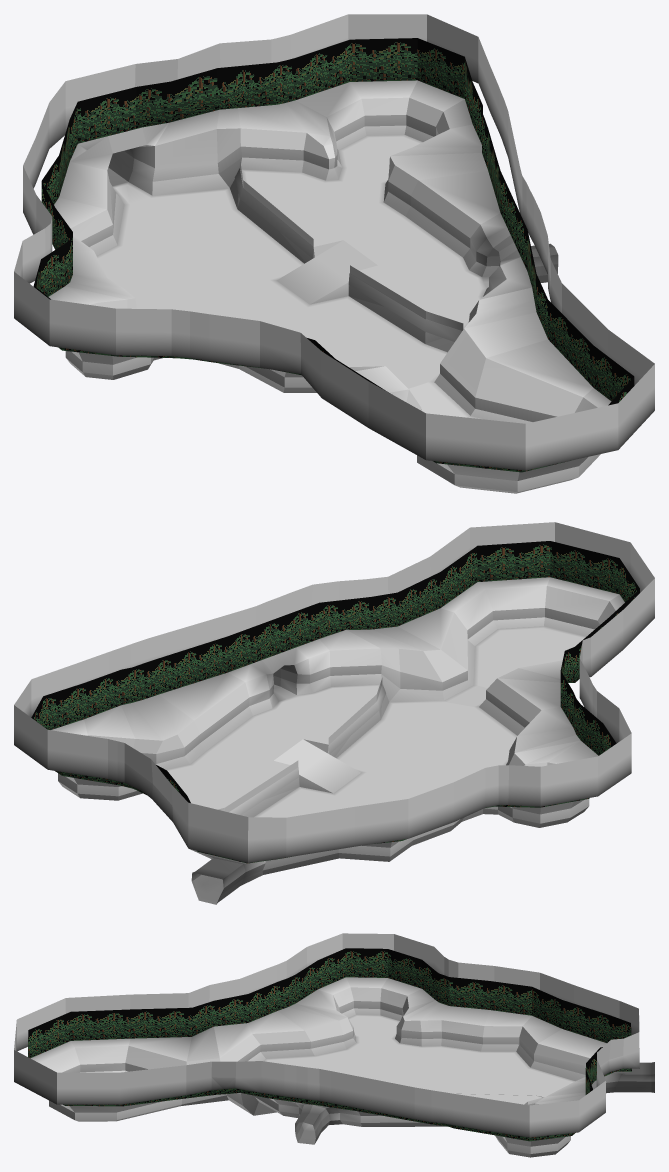
File: level.glb
3 renders of one model, top to bottom at view 1: azimuth 30°, elevation 25°; view 2: azimuth 150°, elevation 25°; view 3: azimuth 270°, elevation 25°, orthographic. The views are drawn at different scales.
Parts seen in each view (by area): view 1: main 1-col, edge-vines, fence-1; view 2: main 1-col, edge-vines, fence-1; view 3: main 1-col.
Part boxes in pixels (x1,y1,x2,y2): main 1-col: (14,14,654,493); edge-vines: (234,168,461,341); fence-1: (240,162,463,330); main 1-col: (14,522,654,904); edge-vines: (229,684,385,815); fence-1: (218,678,382,812); main 1-col: (14,933,654,1157).
Size of what is drawn, in the model's own units: 89.8 by 19.59 by 129.
Materials: 4 (1 with a texture image).
